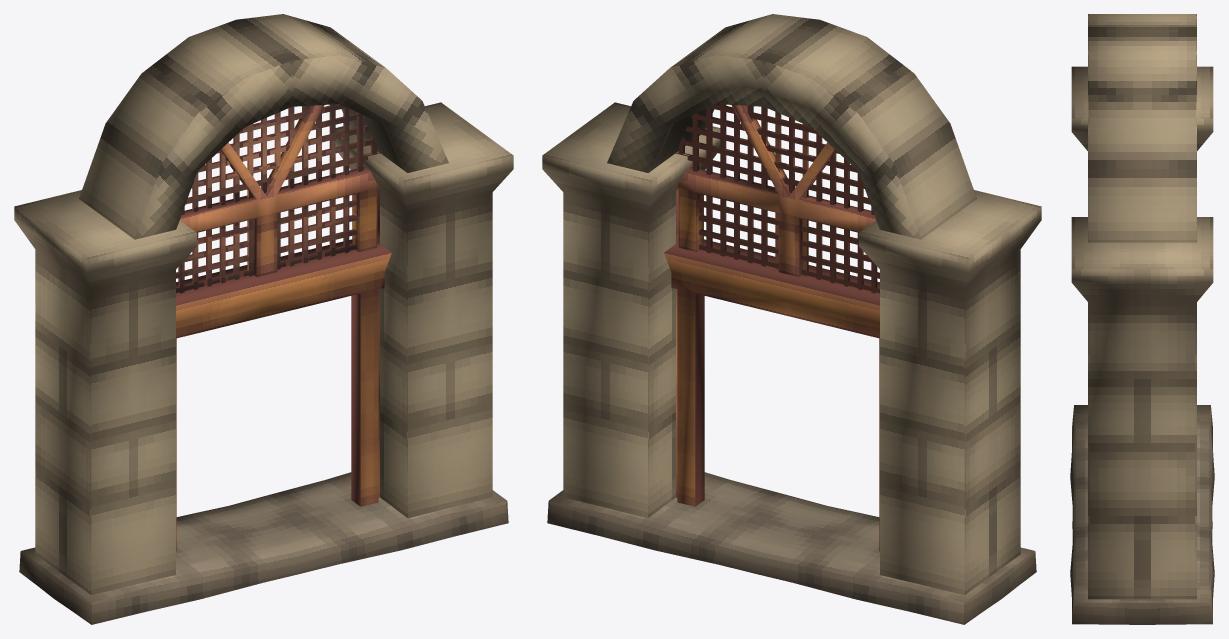
File: gate.glb
The picture shows the model from 3 angles, left to right: view 1: azimuth 30°, elevation 25°; view 2: azimuth 150°, elevation 25°; view 3: azimuth 270°, elevation 25°; orthographic projection. The views are drawn at different scales.
Visible parts, largest first — view 1: gate_pillar, gate_arch, gate_bottom, gate_door_top_bar, gate_wood_bars, gate_detail; view 2: gate_pillar, gate_arch, gate_bottom, gate_door_top_bar, gate_wood_bars, gate_detail; view 3: gate_pillar, gate_arch, gate_bottom.
Part boxes in pixels (box(x1,y1,x2,y2)): gate_pillar: box(14, 102, 513, 595); gate_arch: box(79, 14, 448, 239); gate_bottom: box(19, 472, 508, 624); gate_door_top_bar: box(176, 239, 391, 551); gate_wood_bars: box(176, 104, 379, 293); gate_detail: box(180, 105, 379, 276); gate_pillar: box(542, 102, 1041, 595); gate_arch: box(607, 14, 976, 239); gate_bottom: box(547, 472, 1036, 624); gate_door_top_bar: box(664, 239, 879, 551); gate_wood_bars: box(675, 104, 879, 293); gate_detail: box(676, 105, 875, 276); gate_pillar: box(1071, 66, 1213, 599); gate_arch: box(1088, 14, 1196, 242); gate_bottom: box(1070, 405, 1214, 624).
Bounding box in the file's own units: 3.39 × 3.85 × 1.02.
Materials: 1 (1 with a texture image).
